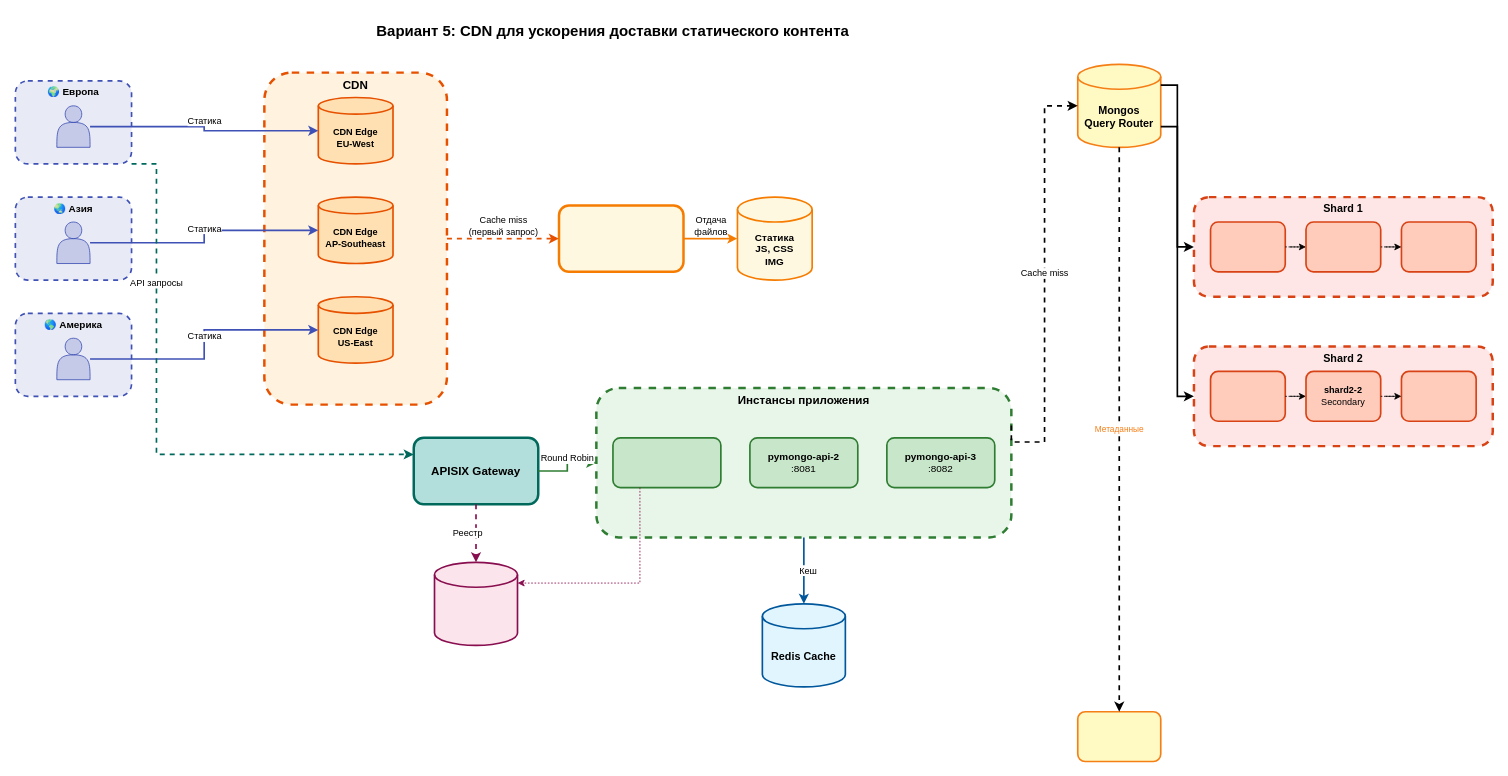
Image size: 1508x776. Some labels were removed from this diagram. The centre of each missing label's shape, as x and y in pixels:
configSrv: (1119,736)
Consul Service Discovery: (475,603)
Nginx (Origin Server): (620,238)
pymongo-api-1 :8080: (666,462)
shard1-1 Primary: (1247,246)
shard1-2 Secondary: (1343,246)
shard1-3 Secondary: (1438,246)
shard2-1 Primary: (1247,396)
shard2-3 Secondary: (1438,396)
